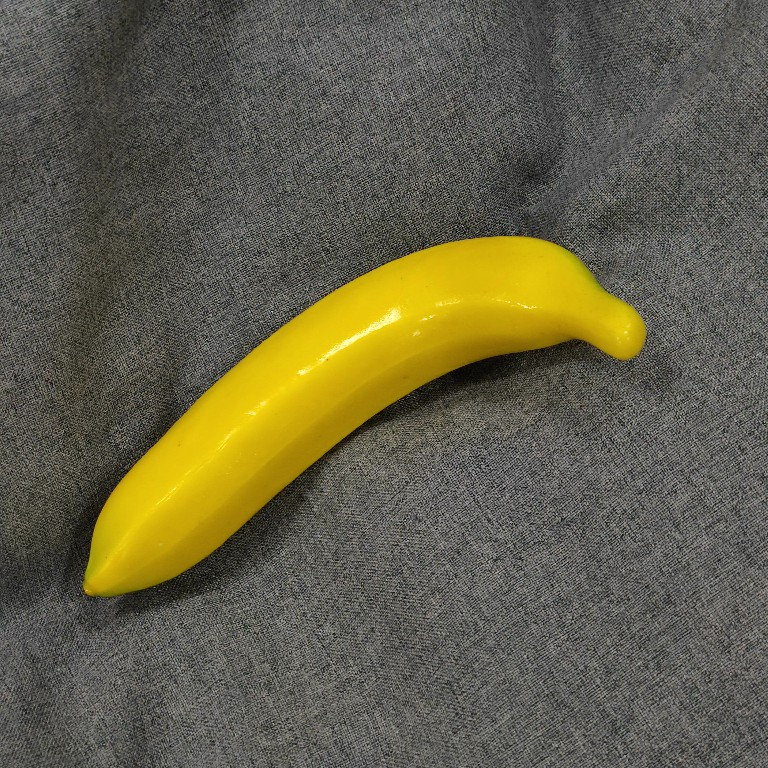fruit_banana: (75, 231, 652, 602)
